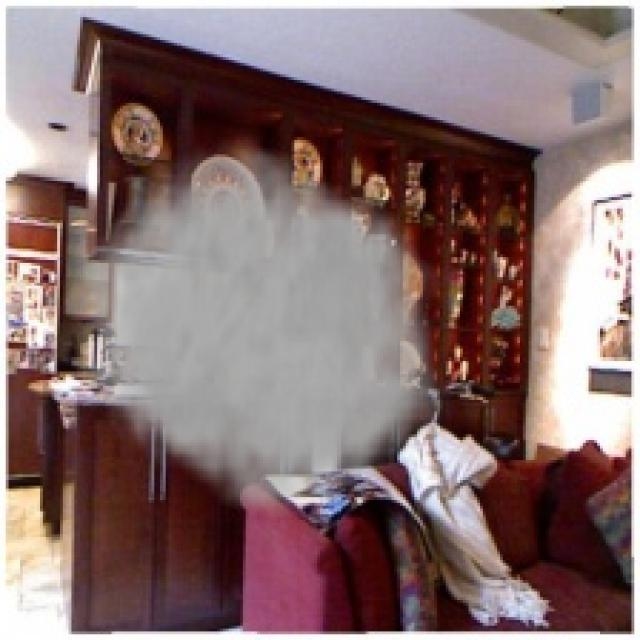smoke: (77, 128, 457, 526)
